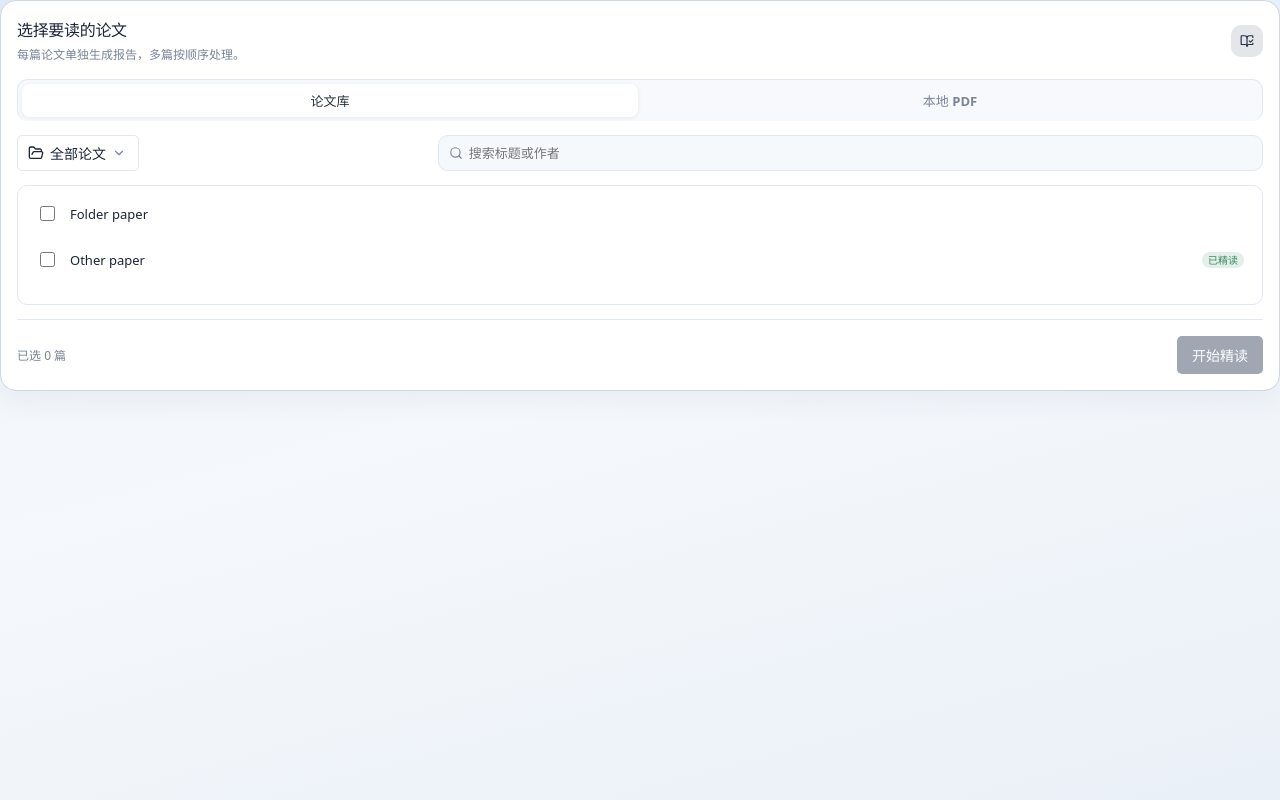
DeepReadNewCard › selects a nested folder with its parent path and filters the candidates
The width and height of the screenshot is (1280, 800).
Click the button "全部论文": (78, 153) 17,135 -> 139,171
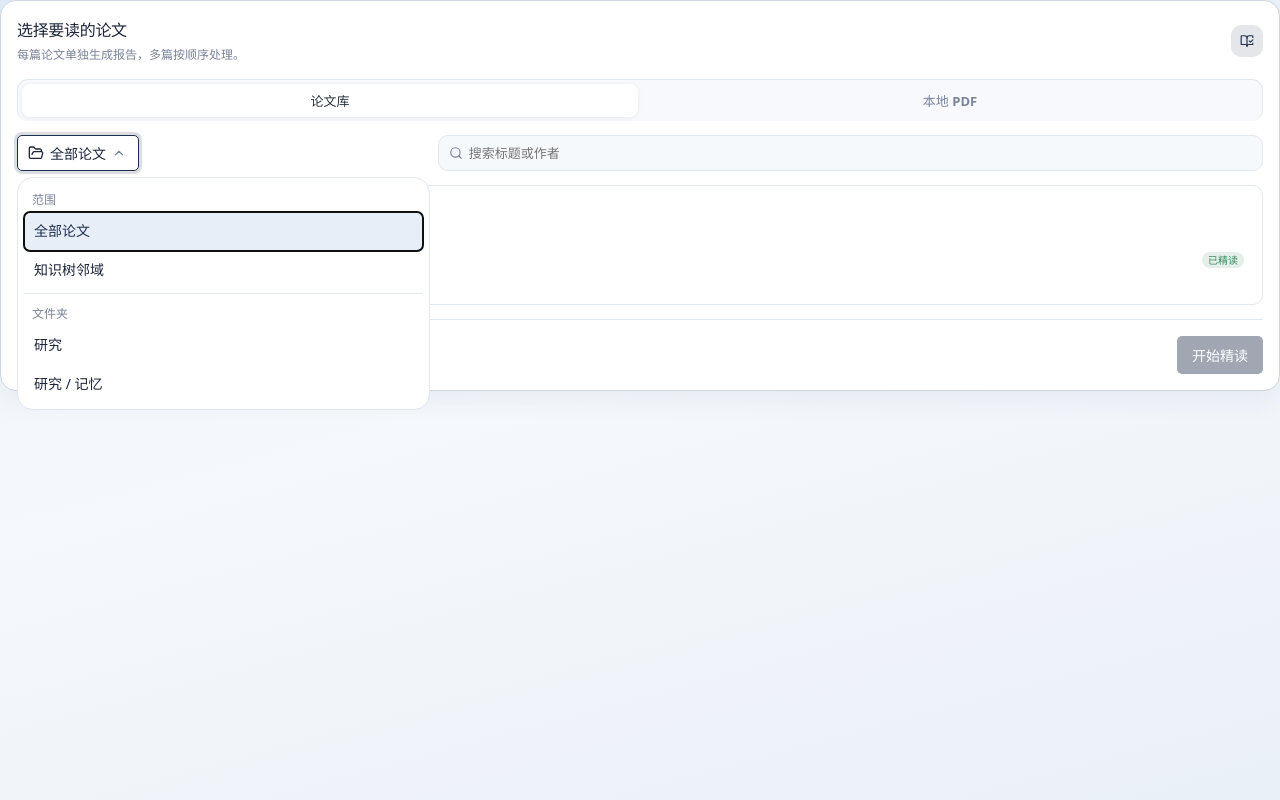
Click the option "研究 / 记忆": (68, 383) 24,365 -> 423,403
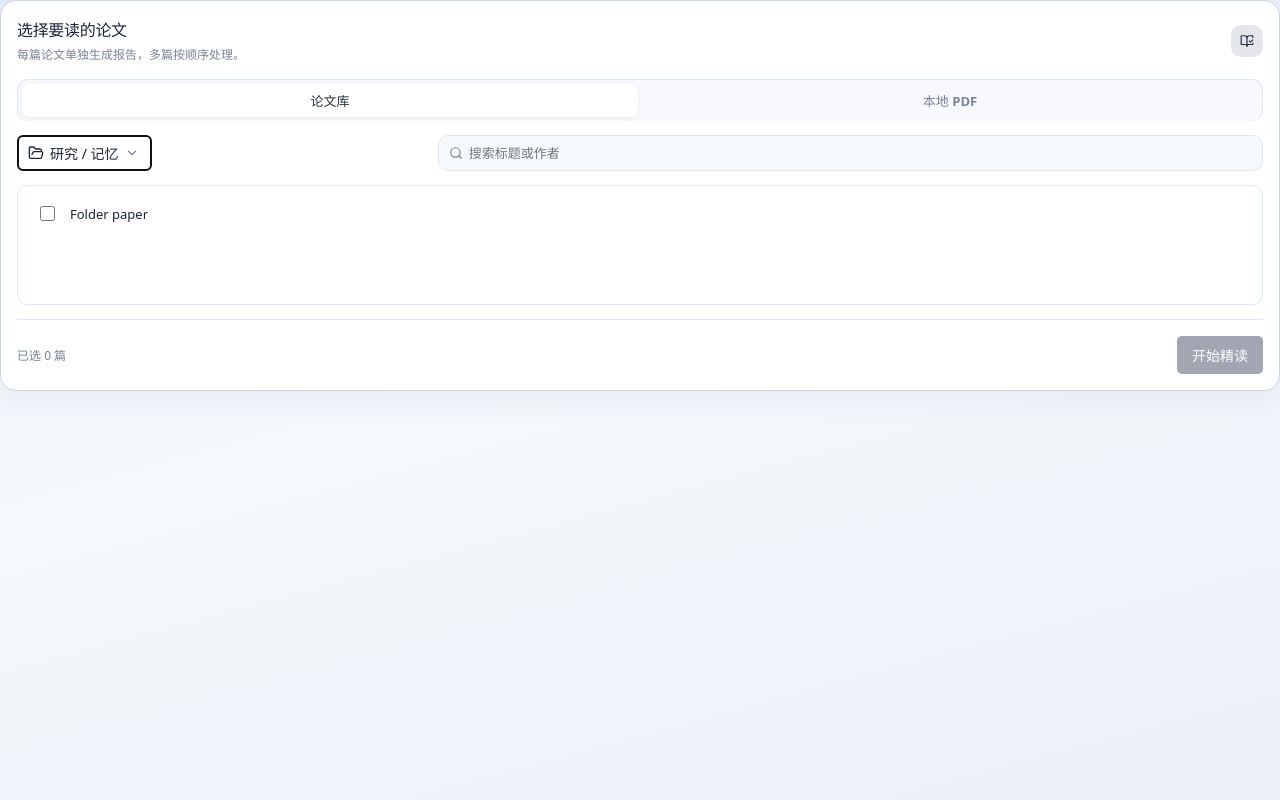
expect the checkbox labelled "Folder paper" is shown: met, box 40,206 -> 55,221
expect the text "Other paper" is gone: met
